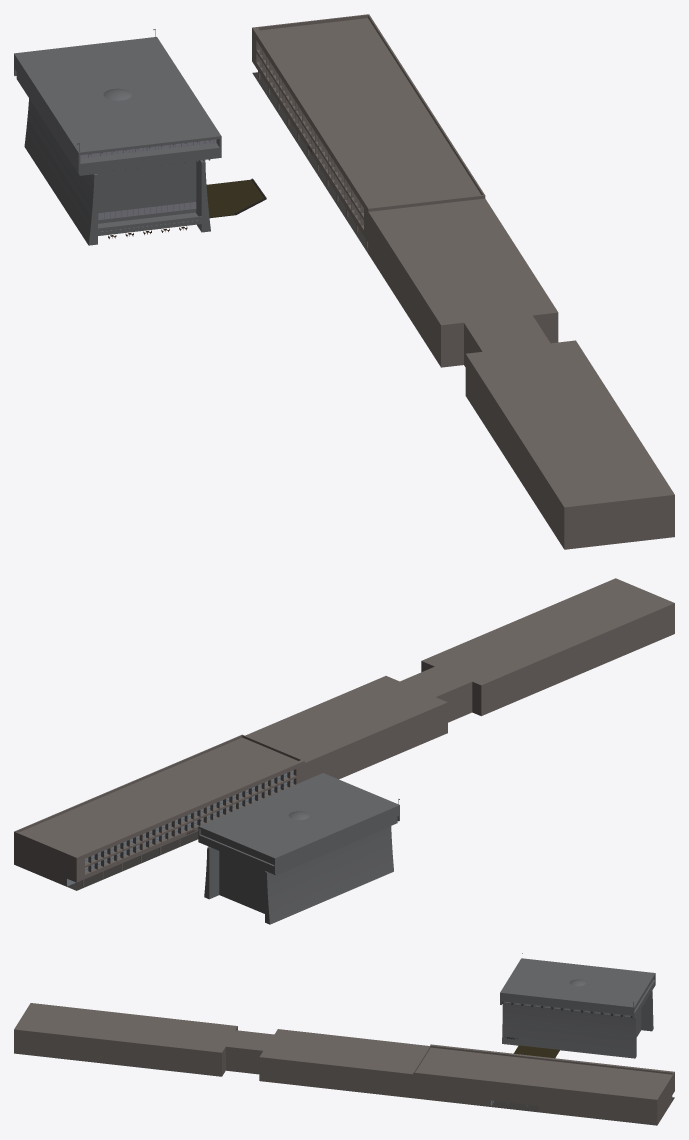
3 views of the same model, one above another, from view 1: azimuth 30°, elevation 25°; view 2: azimuth 150°, elevation 25°; view 3: azimuth 270°, elevation 25° (orthographic). The views are drawn at different scales.
Parts seen in each view (by area): view 1: opaque, glass; view 2: opaque, glass; view 3: opaque.
Part boxes in pixels (box(x1,y1,x2,y2)): opaque: box(14, 14, 674, 549); glass: box(80, 139, 216, 220); opaque: box(14, 578, 674, 924); glass: box(67, 770, 293, 886); opaque: box(14, 953, 674, 1125).
Size of the model in its own units: 116 by 27.73 by 284.
2 materials, 2 textured.
